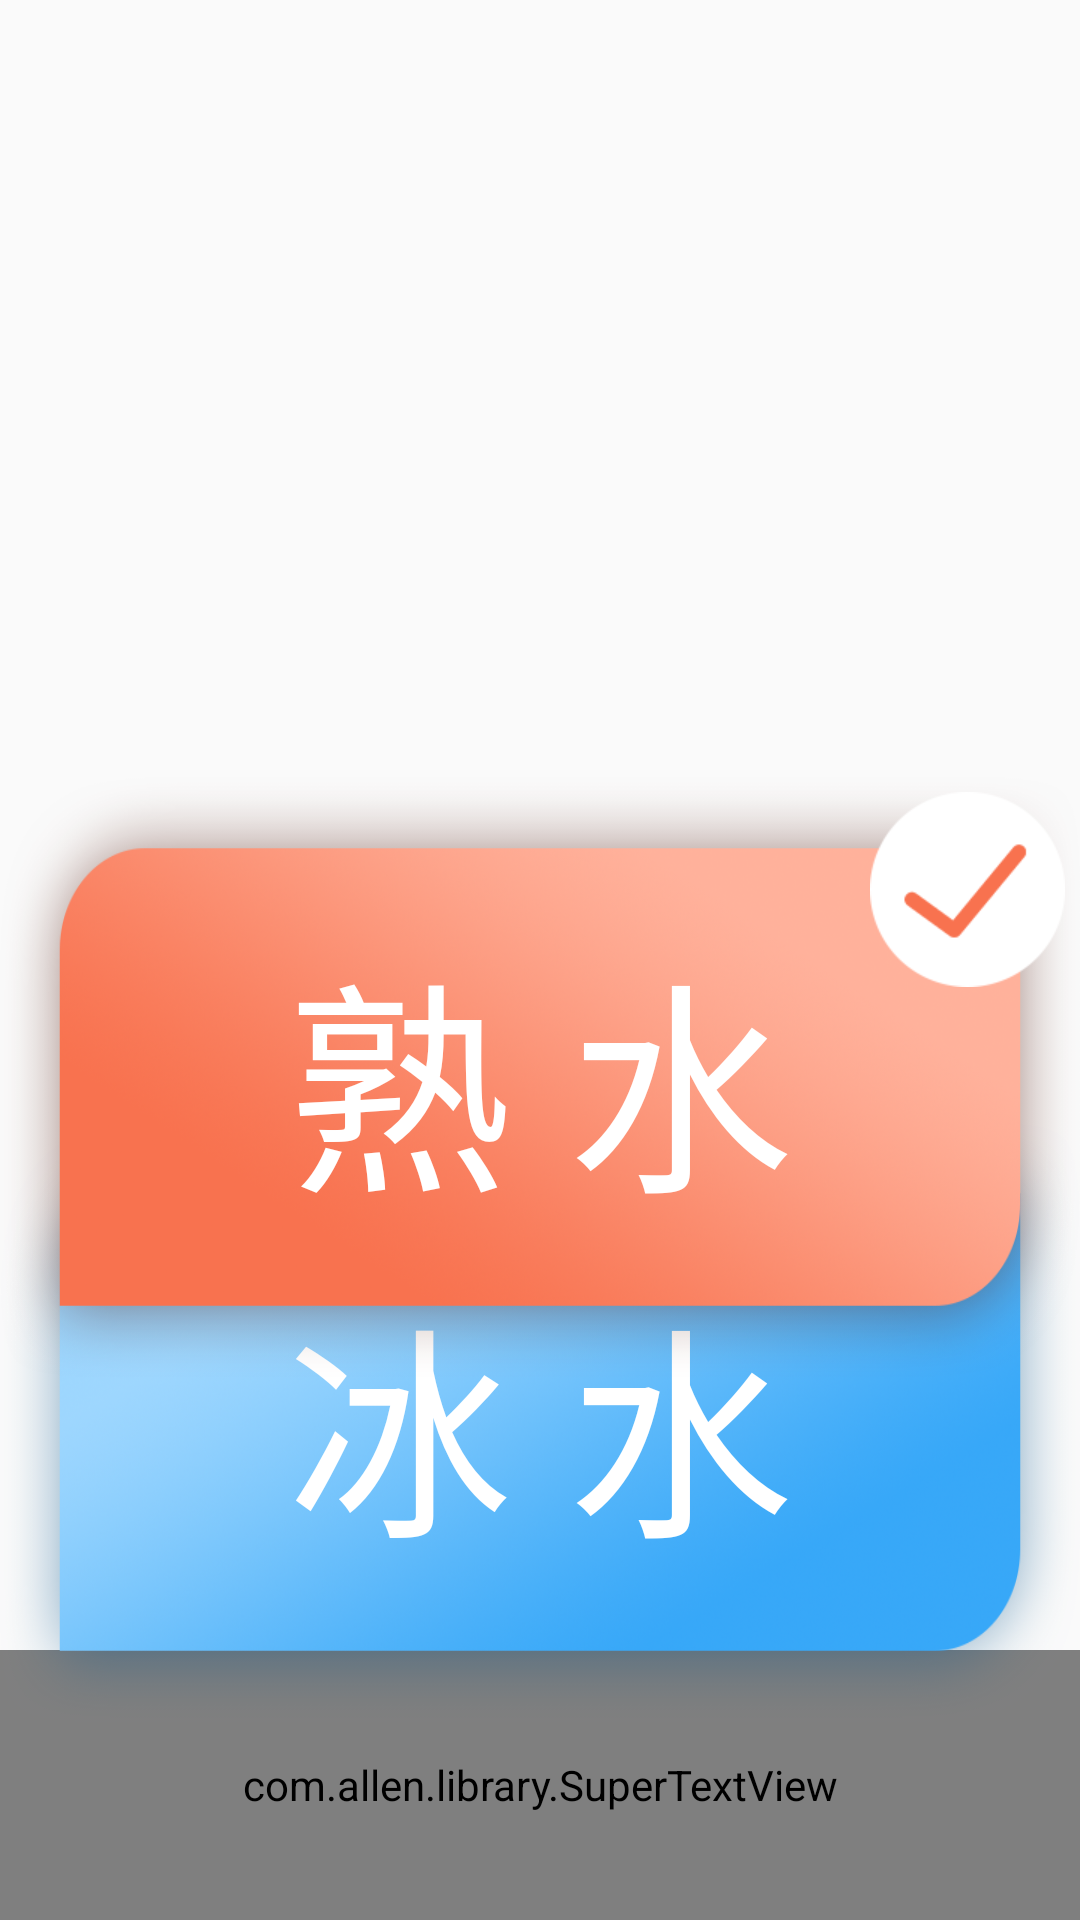

Screen size 1080px×1920px. Icon name, then its center in pixels as [x,y]:
select: [967,889]
